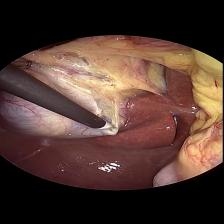Hook: (98, 121, 118, 135)
